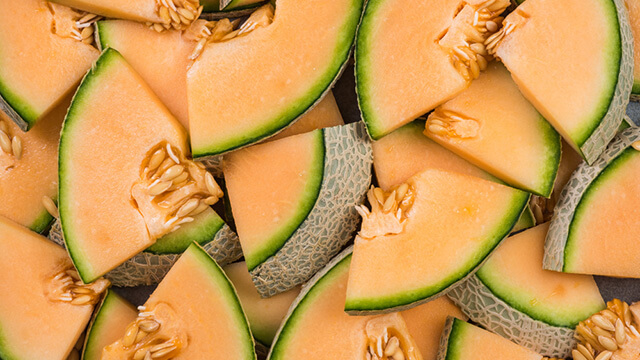Melon: (42, 71, 214, 286), (328, 173, 543, 324)
